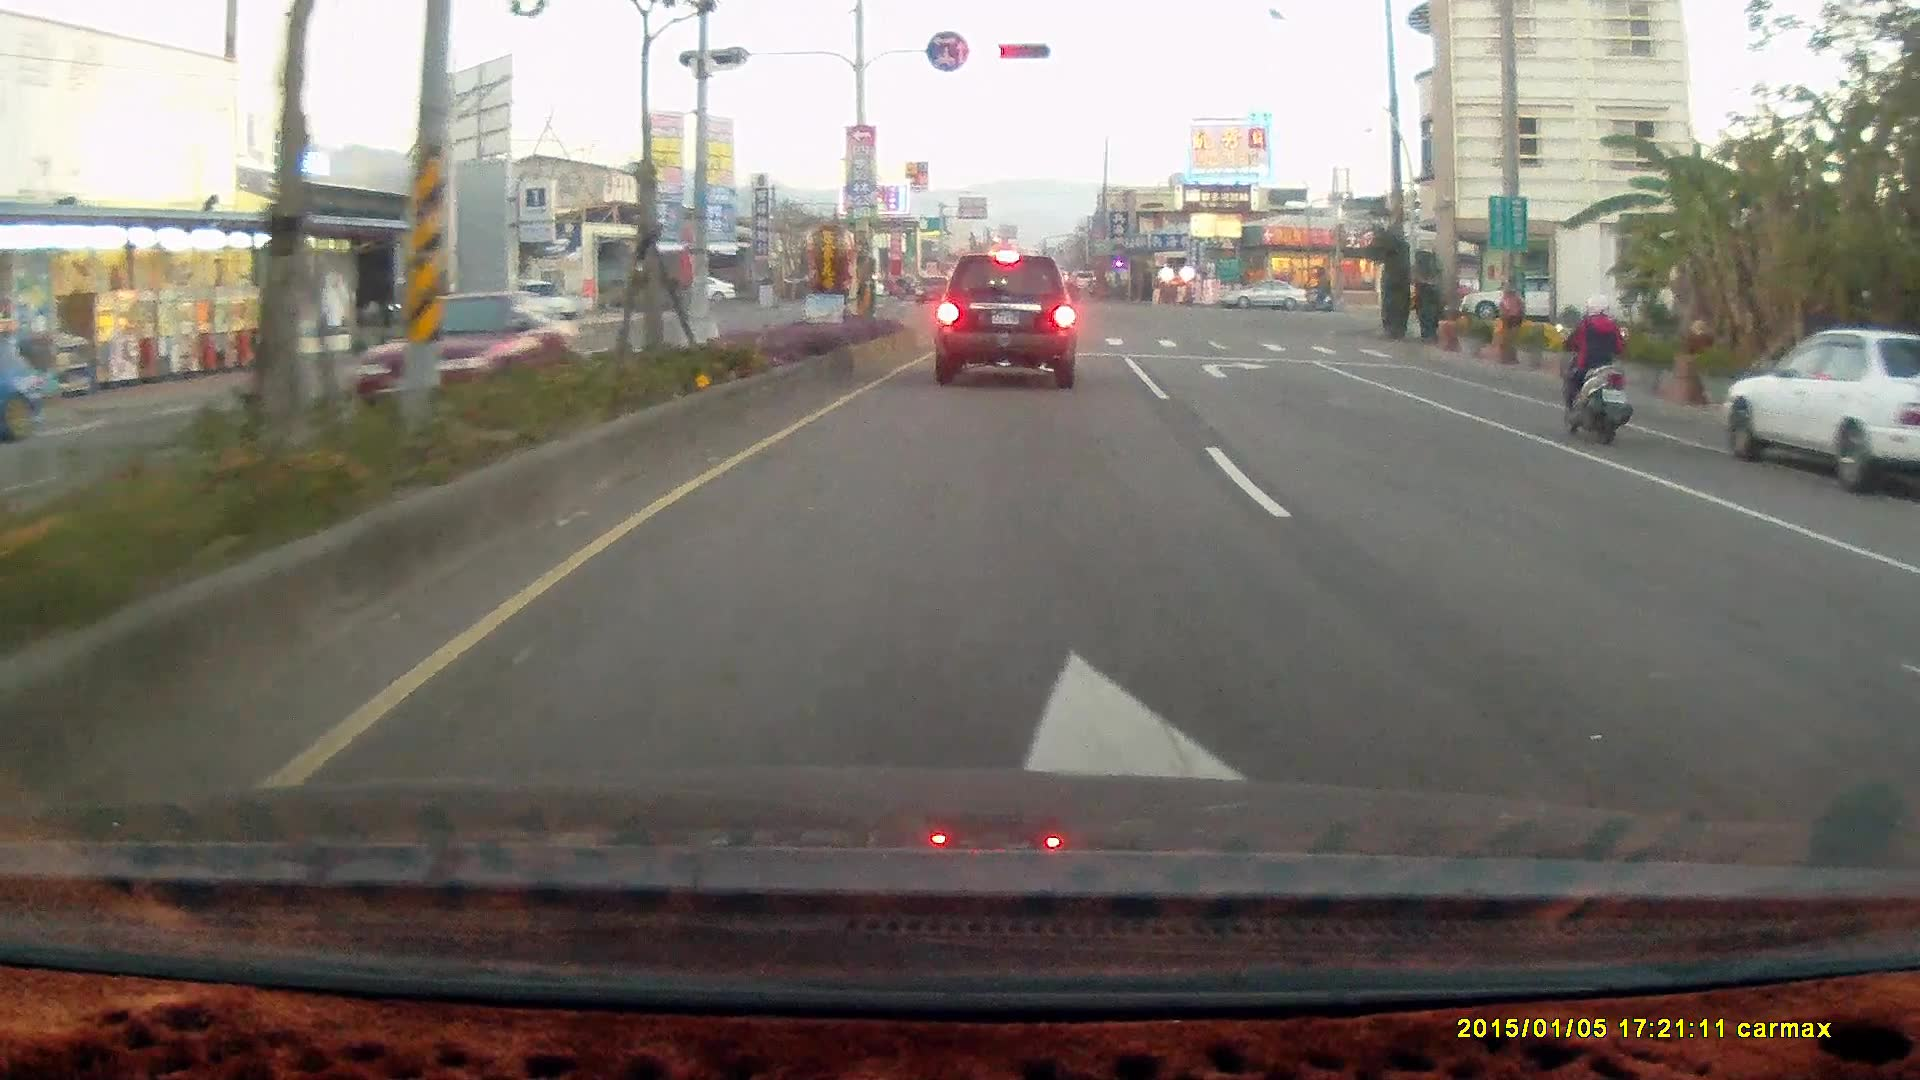rider: (1551, 293, 1633, 447), (1304, 278, 1333, 313)
vehicle: (1717, 323, 1920, 497), (1717, 329, 1920, 496), (932, 248, 1079, 386), (1896, 493, 1920, 836), (1457, 271, 1579, 326), (1883, 528, 1920, 690), (1214, 279, 1310, 316), (508, 278, 577, 326), (1214, 277, 1306, 311)
